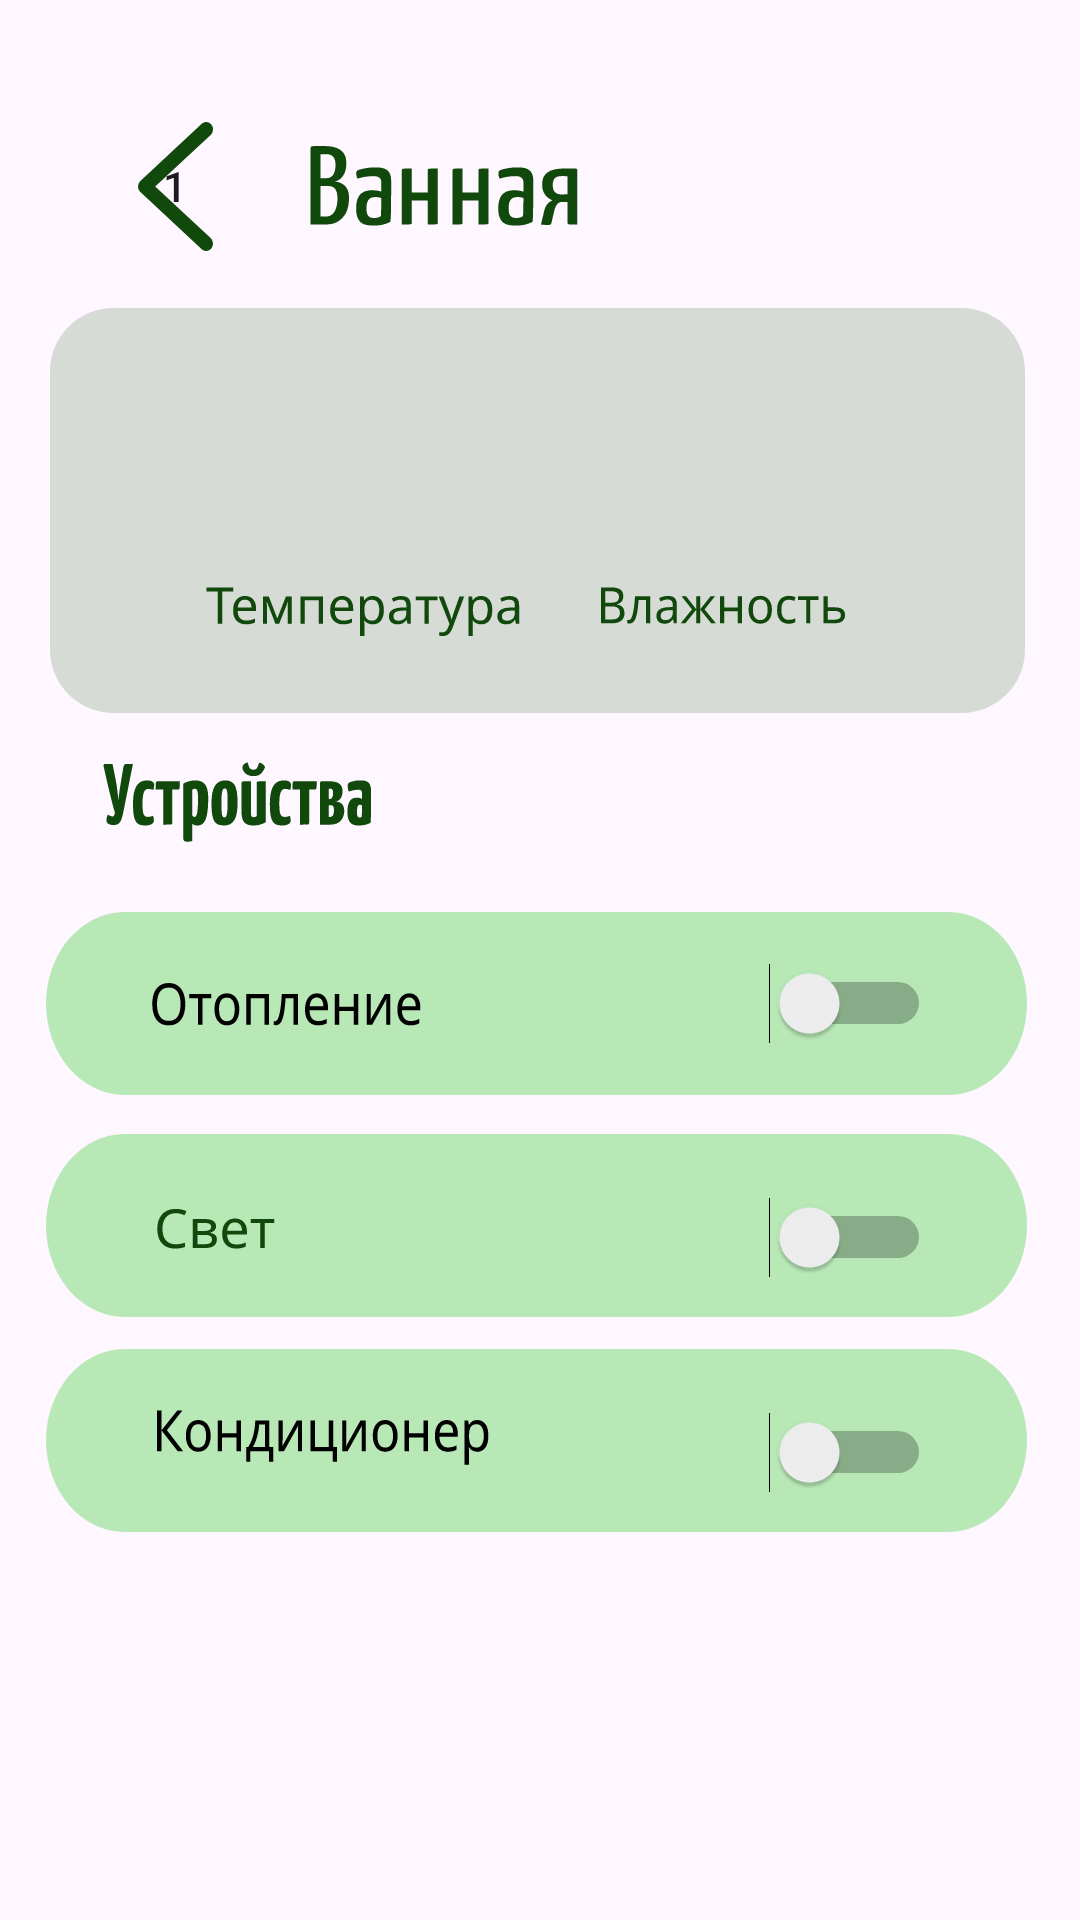

Icons on this 1080*1920 Android screen, each with its box as (x1, y1, x2, y2):
back: (138, 122, 213, 251)
